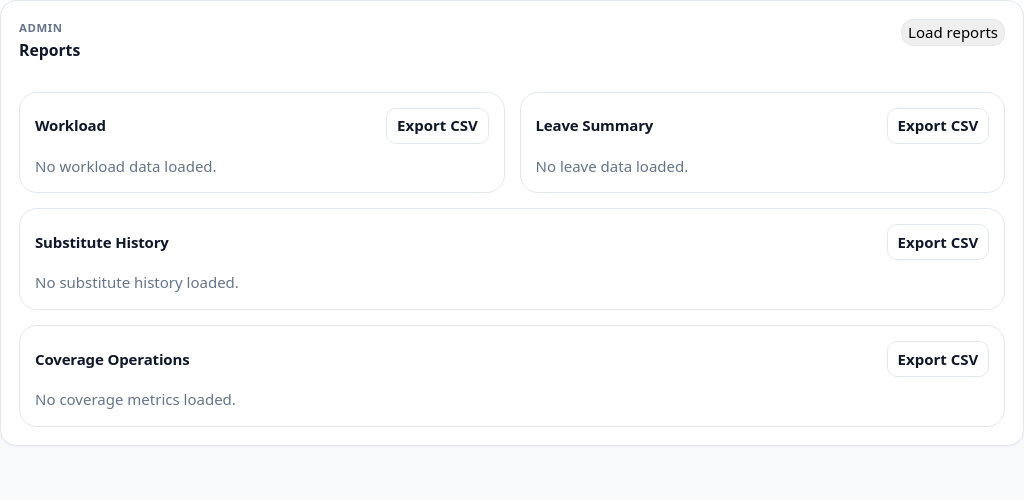
Test: ReportsPanel › downloads CSV with a UTF-8 BOM for Excel compatibility
This screenshot has width=1024, height=500.
Click the 1st button "Export CSV".
click(437, 126)  # box [386,108,488,144]
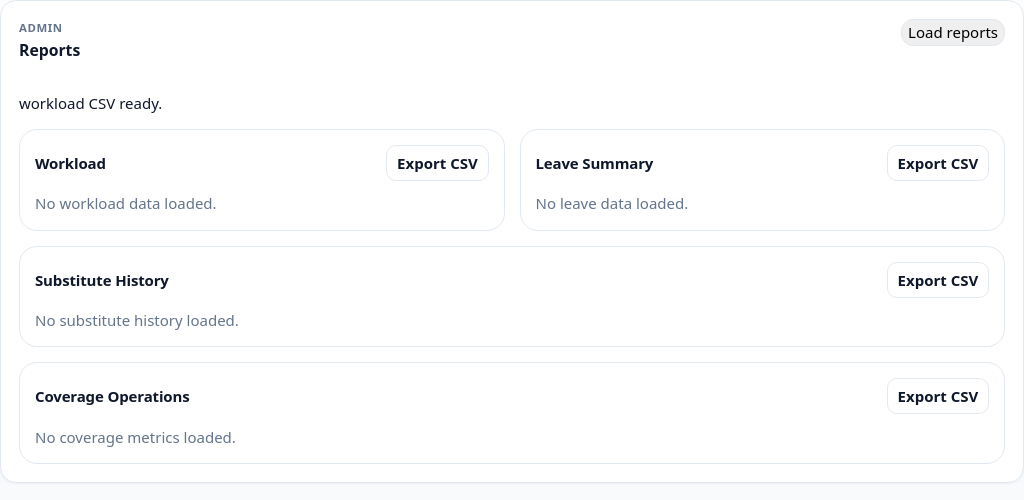
Check: the text "workload CSV ready." is shown, box [19,93,162,113]
